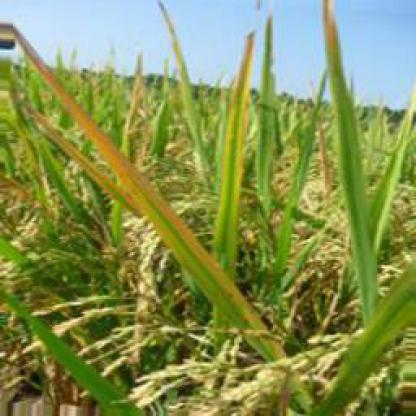Tungro: (11, 27, 276, 349), (213, 30, 263, 240), (317, 3, 359, 71)
